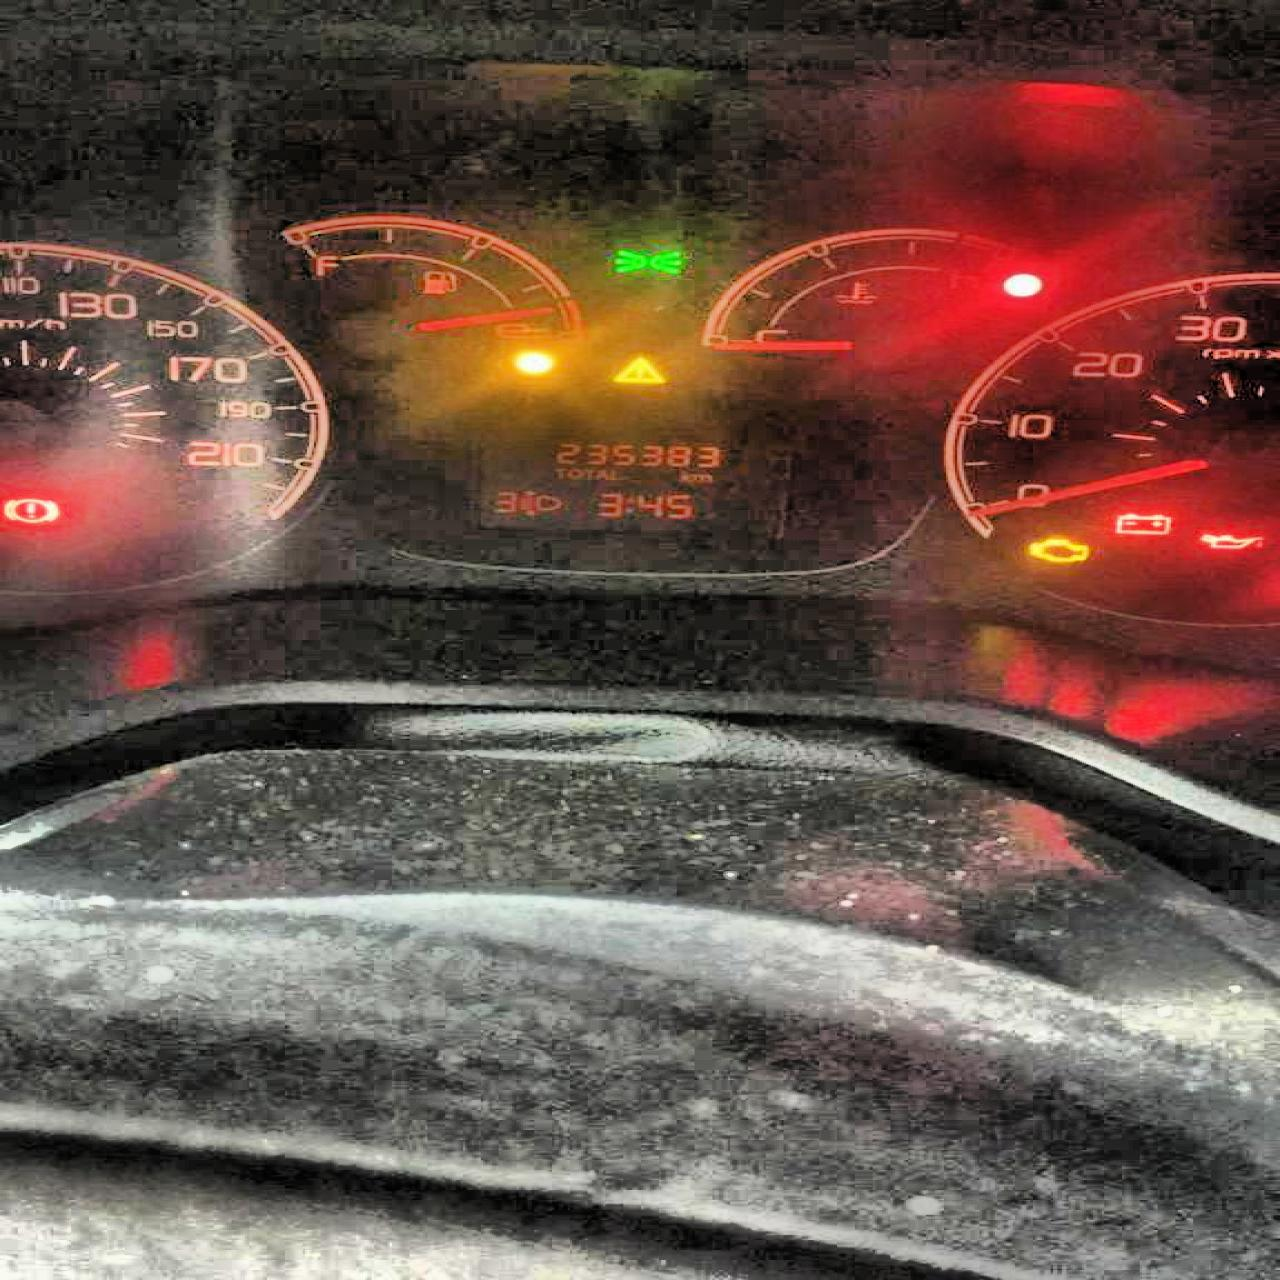2: (552, 441, 579, 464)
3: (594, 492, 621, 517), (639, 443, 663, 467), (695, 444, 720, 468), (492, 490, 516, 512), (581, 443, 606, 463)
4: (635, 493, 661, 515)
5: (663, 493, 688, 517), (610, 443, 634, 465)
8: (666, 445, 690, 467)
X: (607, 468, 624, 482), (580, 467, 594, 482), (693, 472, 715, 482), (565, 468, 580, 478), (624, 497, 633, 513), (594, 468, 606, 481), (552, 467, 565, 477), (679, 470, 690, 481)
odometer: (470, 434, 779, 531)
